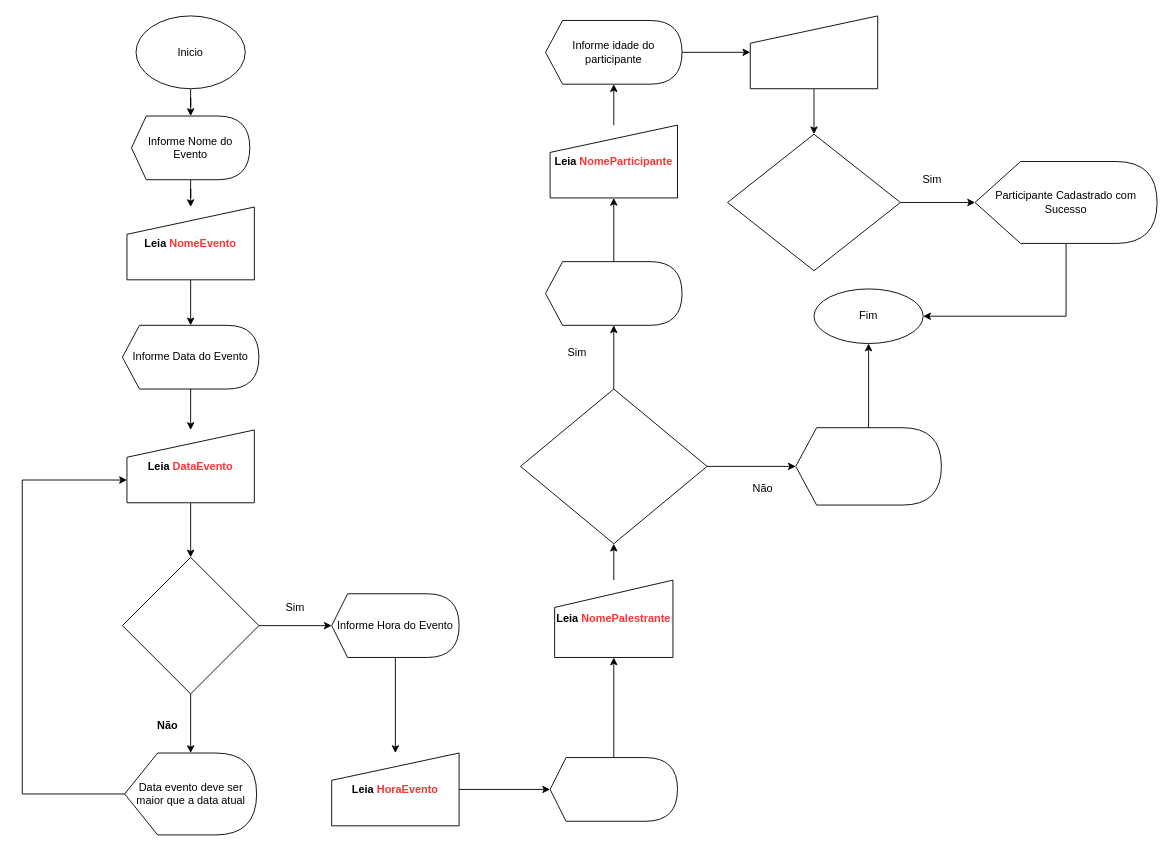
Some shapes in this 1173 by 851 pixel diagram are drawn without their labels. The shapes that lost their labels are listed below. From the top down, each one's box as (x1, y1, x2, y2) in pixels, then its label:
(749, 15, 878, 89): Leia IdadeParticipante
(727, 133, 900, 271): Idade Participante > 18
(545, 261, 682, 325): Informe nome do participante
(520, 388, 707, 544): Quantidade de participantes maior que 100?
(795, 427, 941, 505): Atingido Número máximo de participantes
(121, 556, 259, 694): dataEvento > dataAtual?
(549, 757, 677, 821): Informe Nome do Palestrante
